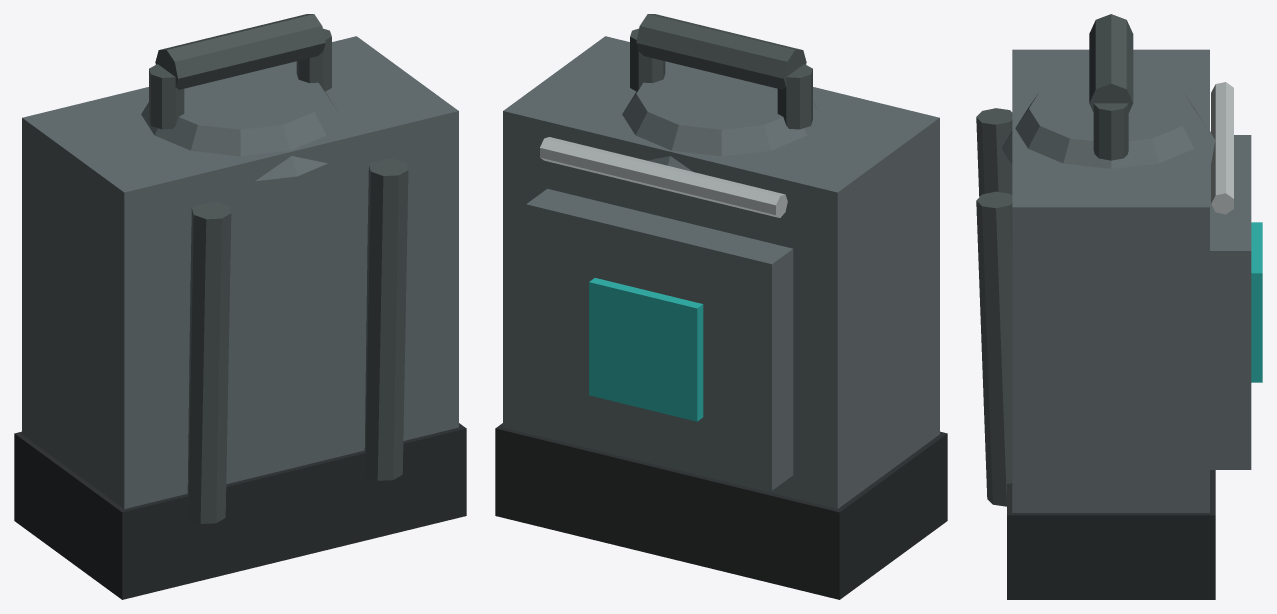
The model's file is HomebaseDaypack_LOD00.gltf.
The picture shows the model from 3 angles, left to right: view 1: azimuth 30°, elevation 25°; view 2: azimuth 150°, elevation 25°; view 3: azimuth 270°, elevation 25°; orthographic projection. The views are drawn at different scales.
Parts seen in each view (by area): view 1: HomebaseDaypack_node; view 2: HomebaseDaypack_node; view 3: HomebaseDaypack_node.
Part boxes in pixels (<box>): HomebaseDaypack_node: <box>14,14,466,599</box>; HomebaseDaypack_node: <box>495,14,947,599</box>; HomebaseDaypack_node: <box>976,14,1262,599</box>.
Bounding box in the file's own units: 0.35 × 0.5 × 0.261.
